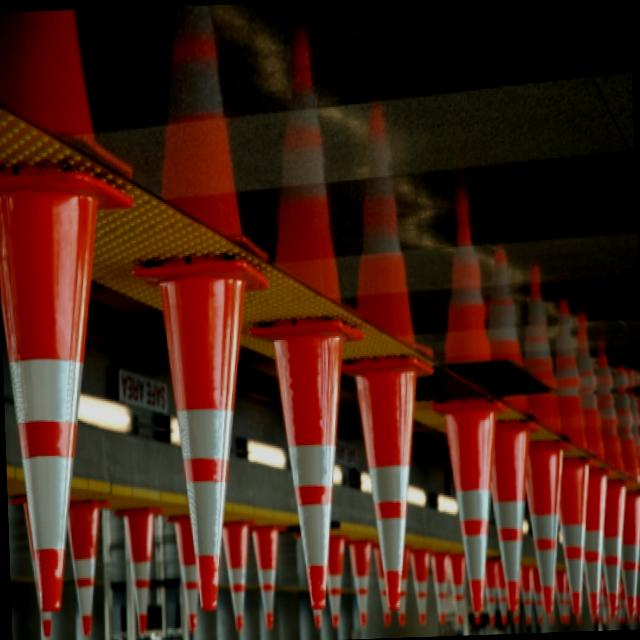cone: (0, 128, 142, 619), (160, 248, 259, 622), (351, 332, 434, 617), (274, 315, 346, 617), (437, 399, 502, 612), (488, 417, 535, 616), (524, 436, 564, 616), (557, 442, 587, 620)
